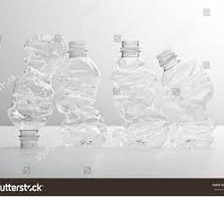bottle: (153, 44, 221, 151), (6, 31, 67, 150), (108, 35, 170, 152), (49, 32, 109, 152)
